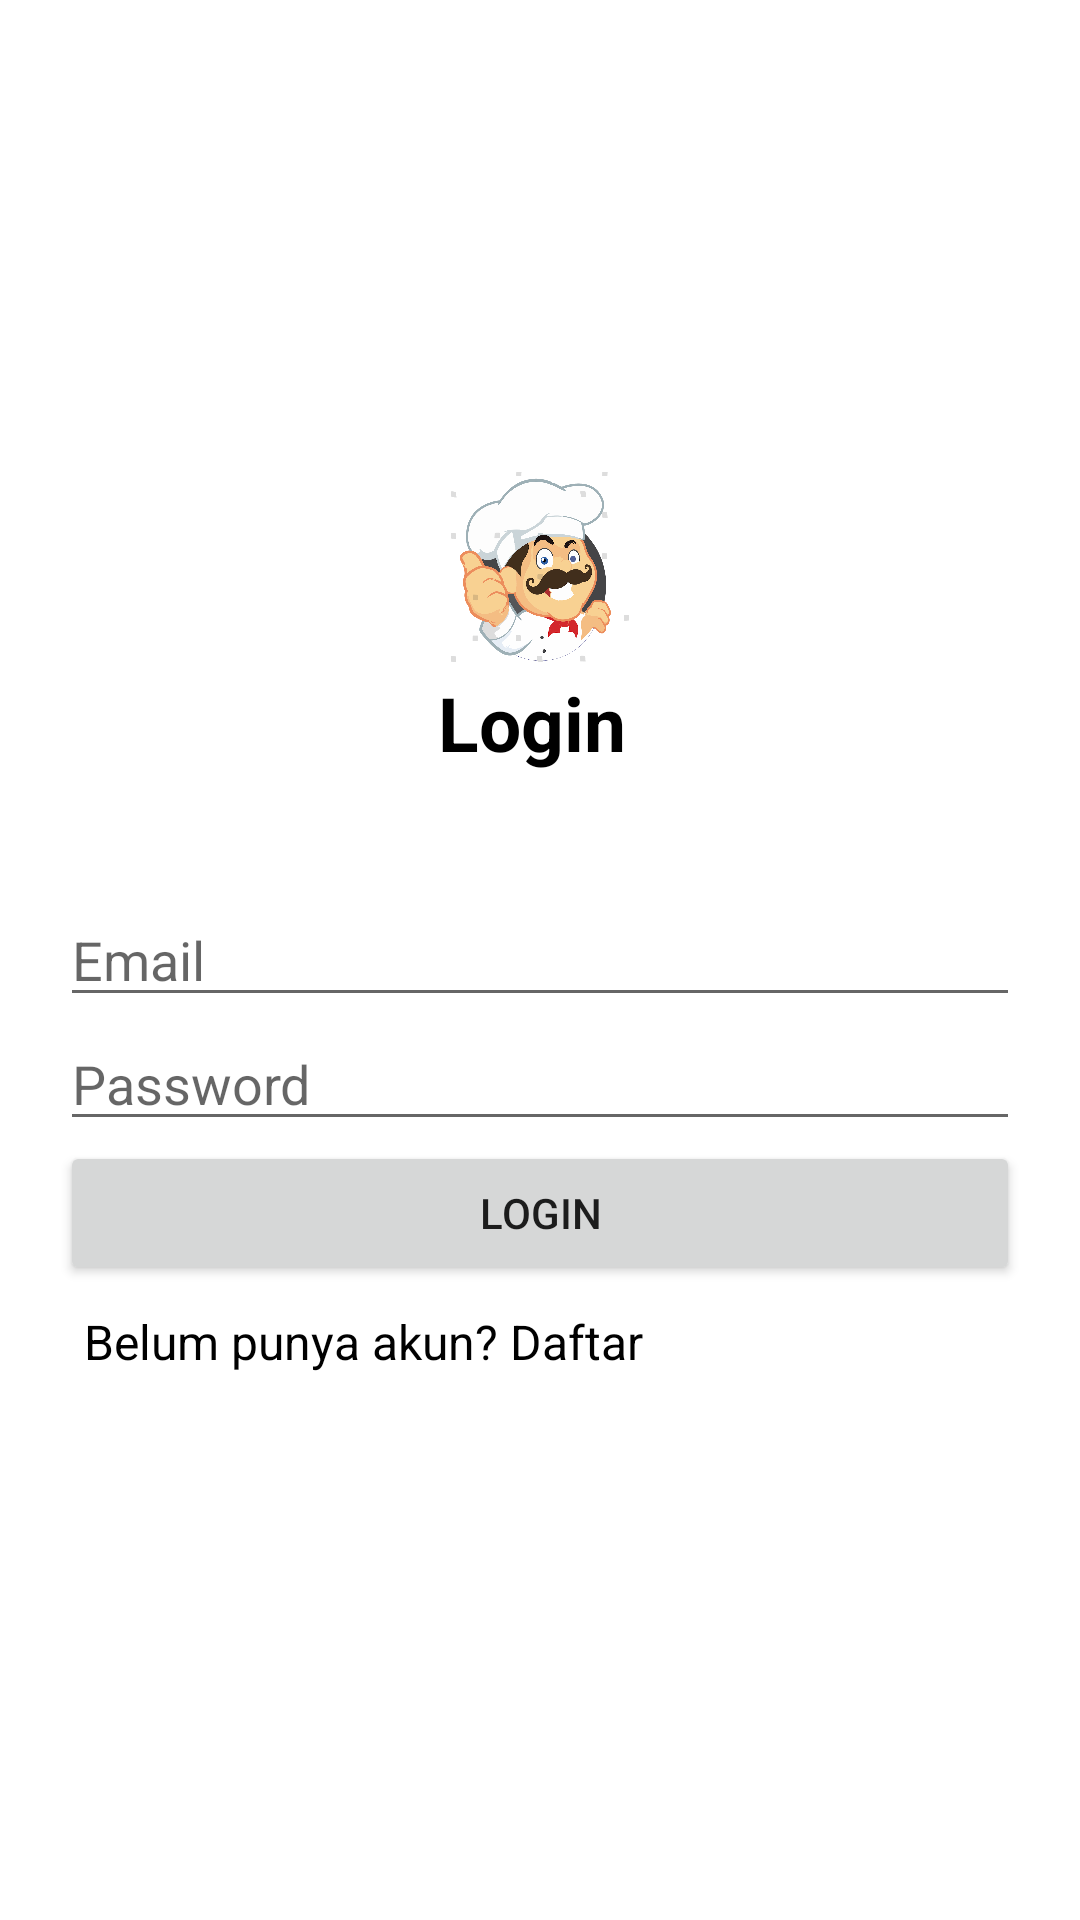

Screen size 1080px x 1920px. Icon name, then its center in pixels as point (x, y):
koki: point (540, 567)
